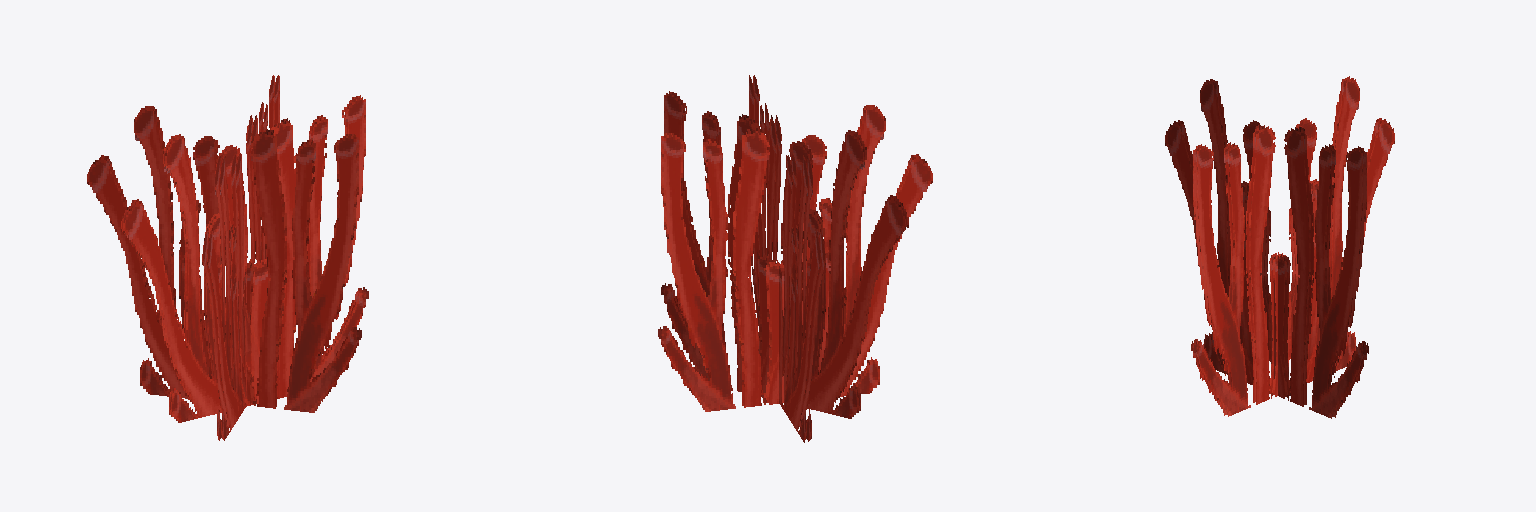
The picture shows the model from 3 angles: view 1: azimuth 30°, elevation 25°; view 2: azimuth 150°, elevation 25°; view 3: azimuth 270°, elevation 25°; orthographic projection.
Visible parts, largest first — view 1: polySurface5; view 2: polySurface5; view 3: polySurface5.
Part boxes in pixels (bbox=[...]): polySurface5: bbox=[87, 75, 368, 440]; polySurface5: bbox=[658, 75, 932, 442]; polySurface5: bbox=[1165, 76, 1394, 418].
Bounding box in the file's own units: 4.48 × 4.48 × 3.26.
1 materials, 1 textured.